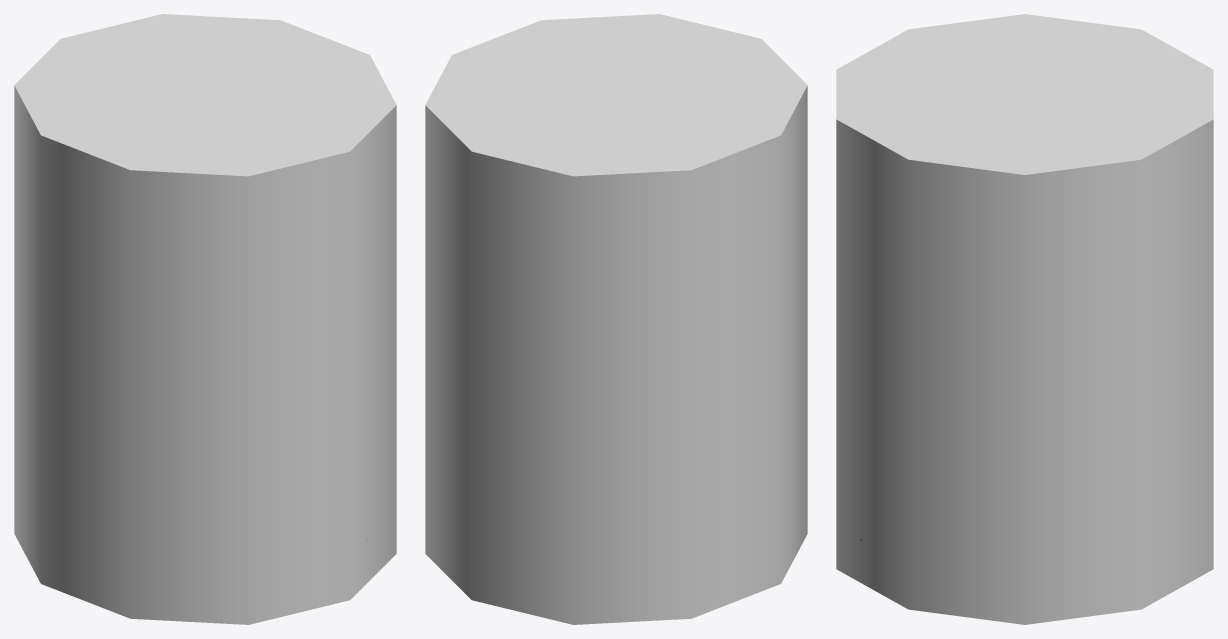
File: Scene_Build_DiaoXiang_1.FBX
3 renders of one model, left to right at view 1: azimuth 30°, elevation 25°; view 2: azimuth 150°, elevation 25°; view 3: azimuth 270°, elevation 25°, orthographic.
Parts seen in each view (by area): view 1: Scene_Build_DiaoXiang_1_Xzm; view 2: Scene_Build_DiaoXiang_1_Xzm; view 3: Scene_Build_DiaoXiang_1_Xzm.
Part boxes in pixels (x1,y1,x2,y2): Scene_Build_DiaoXiang_1_Xzm: [14, 14, 396, 624]; Scene_Build_DiaoXiang_1_Xzm: [425, 14, 807, 624]; Scene_Build_DiaoXiang_1_Xzm: [836, 14, 1213, 624].
Size of the model in its own units: 606 by 802 by 600.
